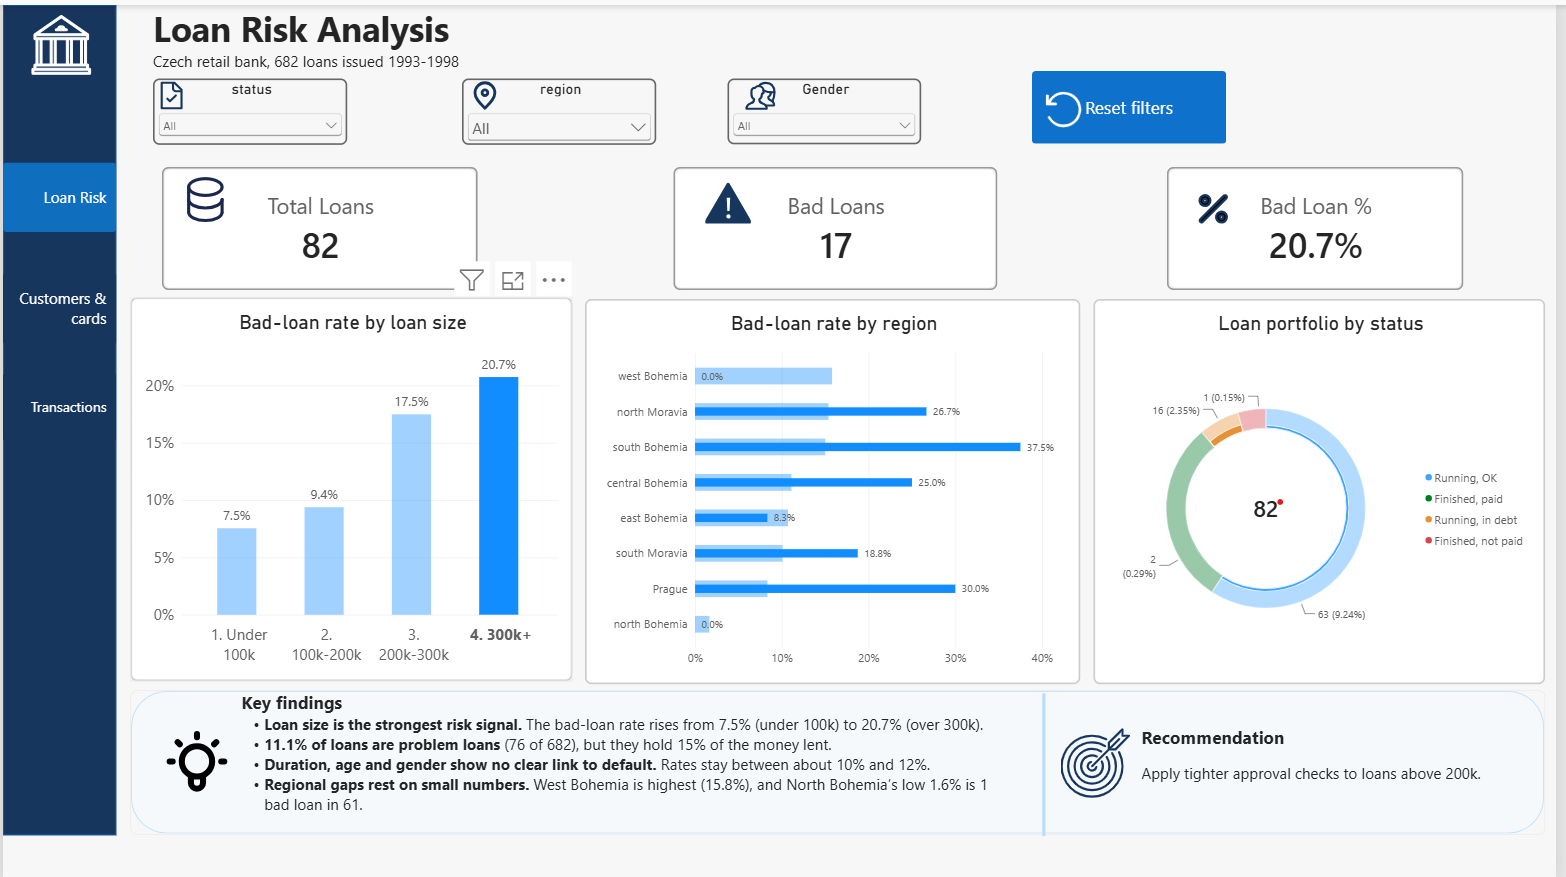

The dashboard page shown, as its layout file describes it:
{"tool":"powerbi","page":{"name":"Loan Risk","canvas":[1920,1080],"ordinal":0},"visuals":[{"type":"cardVisual","fields":{"Data":["Loans.Bad Loans"]},"box":[828,200,400,152],"z":0},{"type":"cardVisual","fields":{"Data":["Loans.Bad Loan %"]},"box":[1438,200,366,152],"z":1000},{"type":"cardVisual","fields":{"Data":["Loans.Total Loans"]},"box":[196,200,390,152],"z":2000},{"type":"clusteredColumnChart","title":"Bad-loan rate by loan size","fields":{"Category":["Loans.amount_band"],"Y":["Loans.Bad Loan %"]},"box":[158,362,546,474],"z":3000},{"type":"clusteredBarChart","title":"Bad-loan rate by region","fields":{"Category":["Loans.region"],"Y":["Loans.Bad Loan %"]},"box":[720,364,612,476],"z":4000},{"type":"donutChart","title":"Loan portfolio by status","fields":{"Category":["Loans.status"],"Y":["Loans.Total Loans"]},"box":[1348,364,558,476],"z":5000},{"type":"slicer","title":"region","fields":{"Values":["Regions.region"]},"box":[568,90,240,82],"z":6000},{"type":"slicer","title":"Gender","fields":{"Values":["Loans.gender"]},"box":[895.3,90.8,239.1,81.6],"z":7000},{"type":"slicer","title":"status","fields":{"Values":["Loans.status"]},"box":[186,90,240,82],"z":8000},{"type":"actionButton","box":[1272,82,240,90],"z":9000},{"type":"shape","box":[0,0,140,1026],"z":10000},{"type":"textbox","box":[186,0,726,104],"z":11000},{"type":"image","box":[16,10,110,80],"z":12000},{"type":"image","box":[1454,216,84,70],"z":13000},{"type":"image","box":[852,216,86,56],"z":14000},{"type":"image","box":[206,210,88,62],"z":15000},{"type":"shape","box":[158,848,1748,178],"z":16000},{"type":"textbox","box":[294,848,934,178],"z":17000},{"type":"shape","box":[1226,850,122,176],"z":18000},{"type":"image","box":[186,890,108,90],"z":19000},{"type":"textbox","box":[1406,890,474,90],"z":20000},{"type":"image","box":[1306,882,86,108],"z":21000},{"type":"actionButton","box":[0,194,140,86],"z":22000},{"type":"actionButton","box":[0,454,140,86],"z":23000},{"type":"actionButton","box":[0,329.9,140,90],"z":24000},{"type":"image","box":[1274,100,74,58],"z":25000},{"type":"image","box":[912,90.8,48.2,42.6],"z":26000},{"type":"image","box":[568,90,56,42],"z":27000},{"type":"image","box":[186,90,46,42],"z":28000}]}

Visuals, with their boxes on the page's 1920x1080 design canvas (x1, y1, x2, y2). These are canvas units, not pixel positions in the 1566x877 screenshot, which may show the page scaled, cropped or inside an application window:
cardVisual - Loans.Bad Loans: 828:200:1228:352
cardVisual - Loans.Bad Loan %: 1438:200:1804:352
cardVisual - Loans.Total Loans: 196:200:586:352
"Bad-loan rate by loan size" clusteredColumnChart: 158:362:704:836
"Bad-loan rate by region" clusteredBarChart: 720:364:1332:840
"Loan portfolio by status" donutChart: 1348:364:1906:840
"region" slicer: 568:90:808:172
"Gender" slicer: 895:91:1134:172
"status" slicer: 186:90:426:172
actionButton: 1272:82:1512:172
shape: 0:0:140:1026
textbox: 186:0:912:104
image: 16:10:126:90
image: 1454:216:1538:286
image: 852:216:938:272
image: 206:210:294:272
shape: 158:848:1906:1026
textbox: 294:848:1228:1026
shape: 1226:850:1348:1026
image: 186:890:294:980
textbox: 1406:890:1880:980
image: 1306:882:1392:990
actionButton: 0:194:140:280
actionButton: 0:454:140:540
actionButton: 0:330:140:420
image: 1274:100:1348:158
image: 912:91:960:133
image: 568:90:624:132
image: 186:90:232:132
